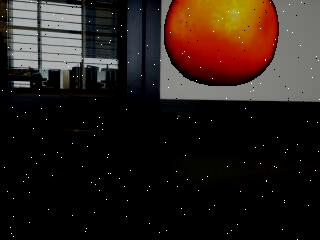Orange: (161, 2, 280, 88)
